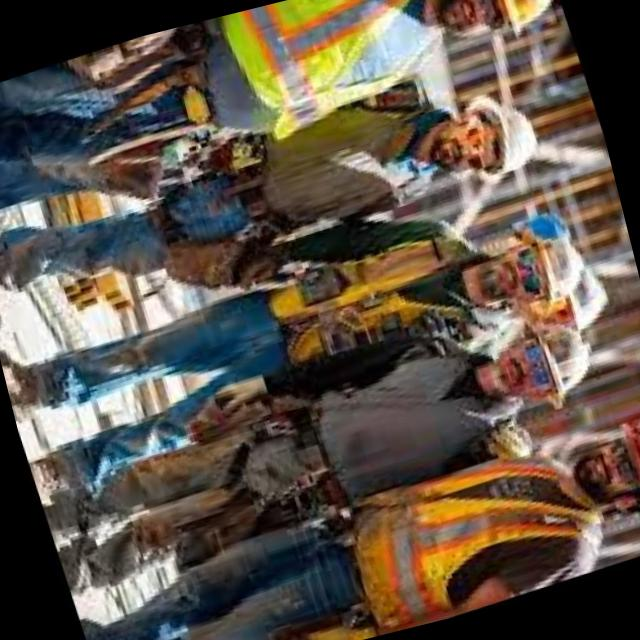gloved: (150, 210, 265, 313), (168, 373, 276, 442), (68, 21, 199, 76), (244, 600, 378, 640)
